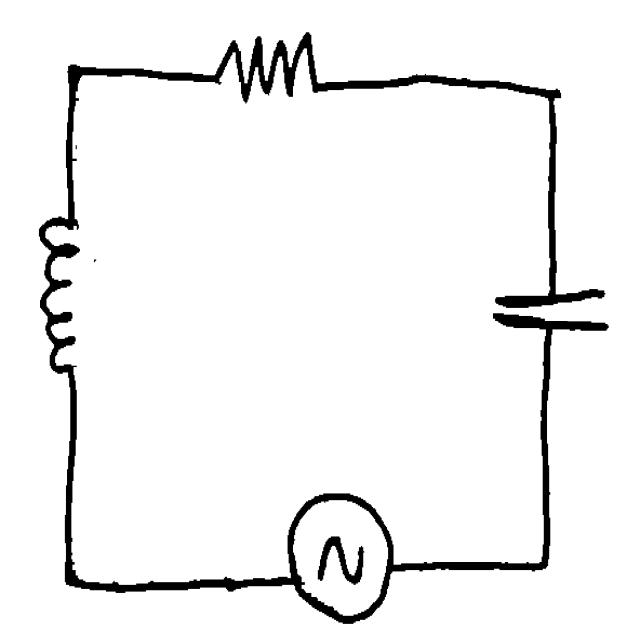ac: (278, 477, 399, 629)
capacitor: (470, 272, 618, 348)
inductor: (31, 198, 92, 384)
resistor: (198, 17, 328, 106)
